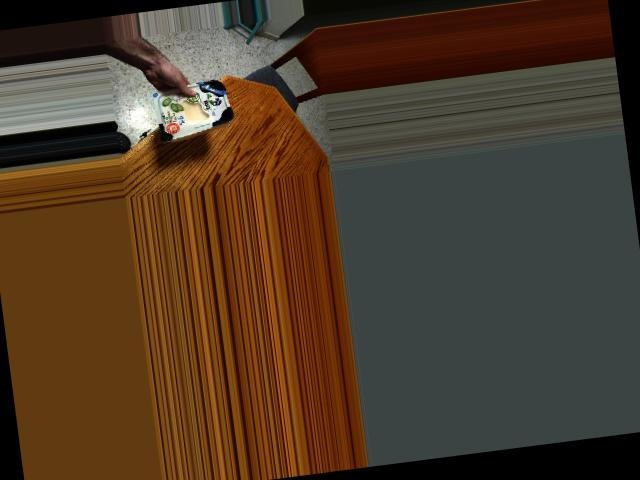cheese: (157, 80, 233, 133)
